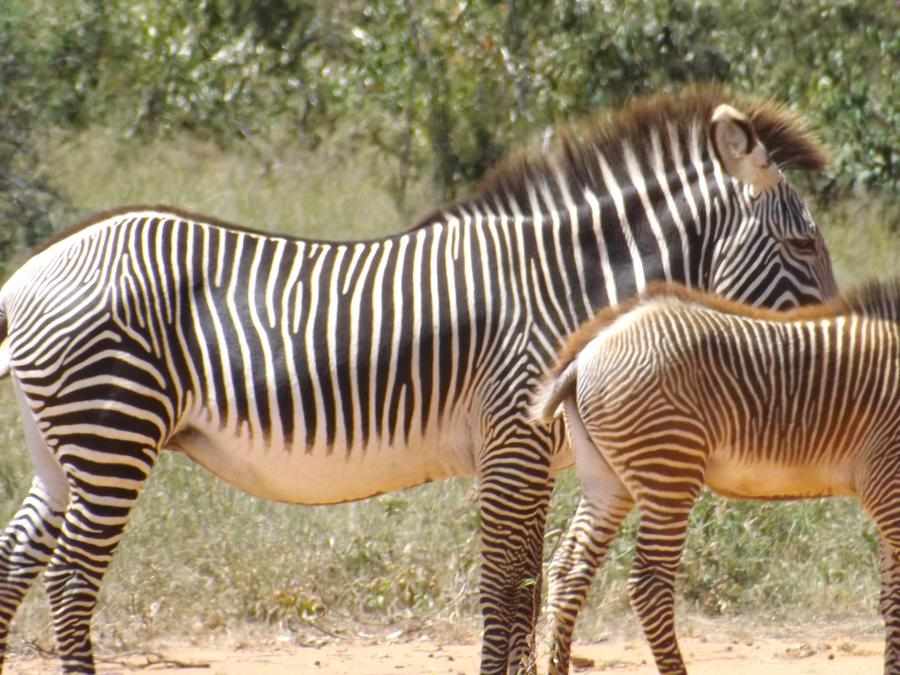zebra_grevys: (14, 187, 550, 460)
